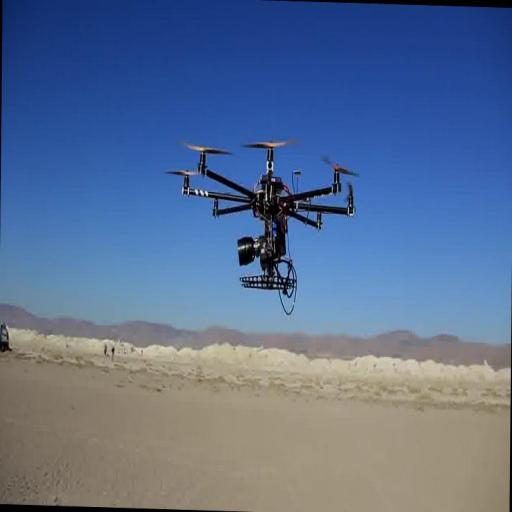drone: (164, 137, 361, 290)
